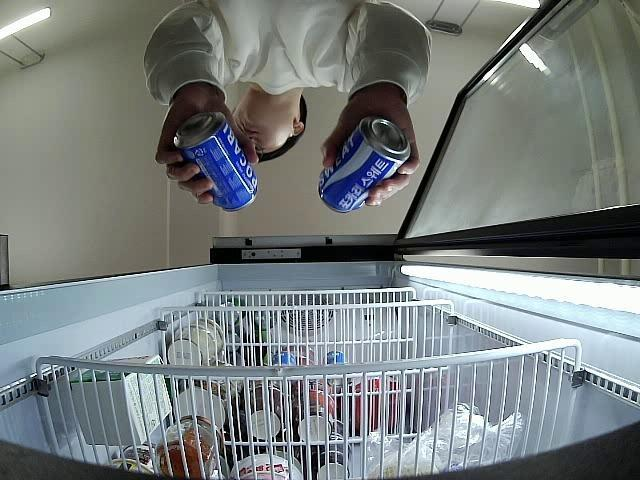13_pocariSweat: (316, 114, 412, 215), (174, 112, 258, 213)
